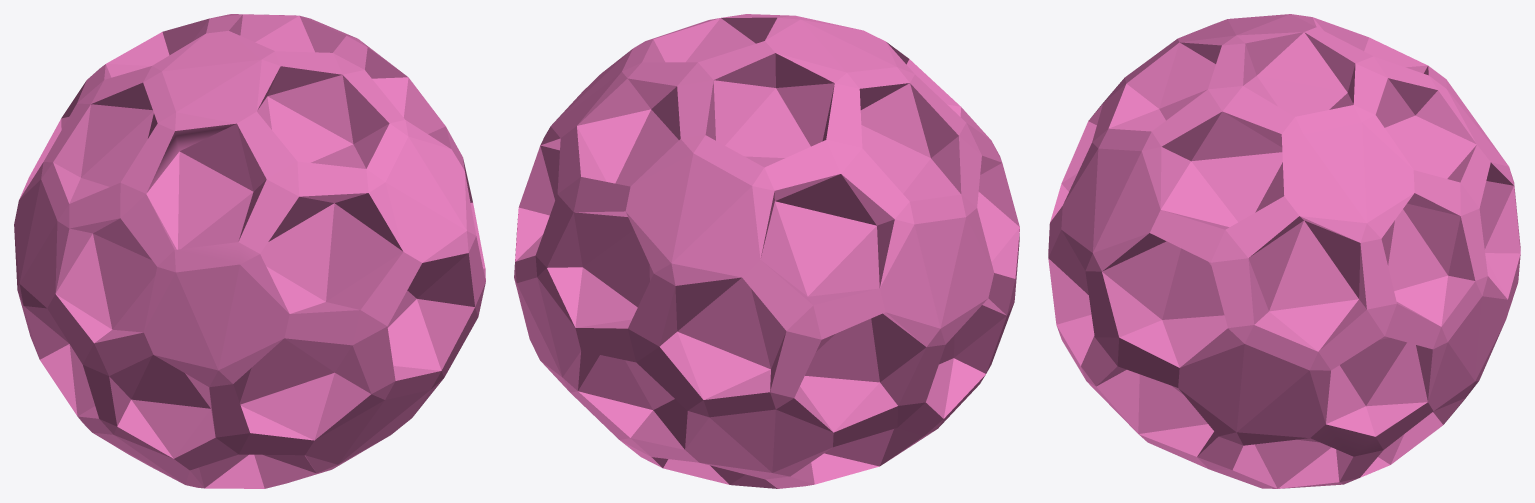
Rendered from plant_06_fractalrose_samen.gltf.
3 renders of one model, left to right at view 1: azimuth 30°, elevation 25°; view 2: azimuth 150°, elevation 25°; view 3: azimuth 270°, elevation 25°, orthographic. The views are drawn at different scales.
Visible parts, largest first — view 1: Icosphere; view 2: Icosphere; view 3: Icosphere.
Boxes of the visible parts, x1,y1,x2,y2 form: Icosphere: [14, 14, 485, 488]; Icosphere: [514, 14, 1019, 488]; Icosphere: [1048, 14, 1520, 488].
Bounding box in the file's own units: 0.6575 × 0.6533 × 0.6477.
